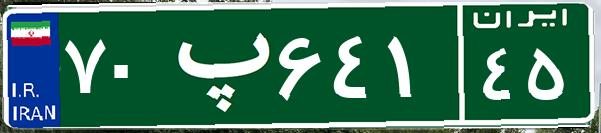0: (110, 28, 158, 105)
1: (385, 28, 445, 110)
4: (330, 28, 385, 110), (475, 38, 525, 113)
5: (525, 38, 570, 115)
6: (273, 28, 330, 110)
7: (57, 26, 110, 107)
پ: (158, 15, 273, 115)
